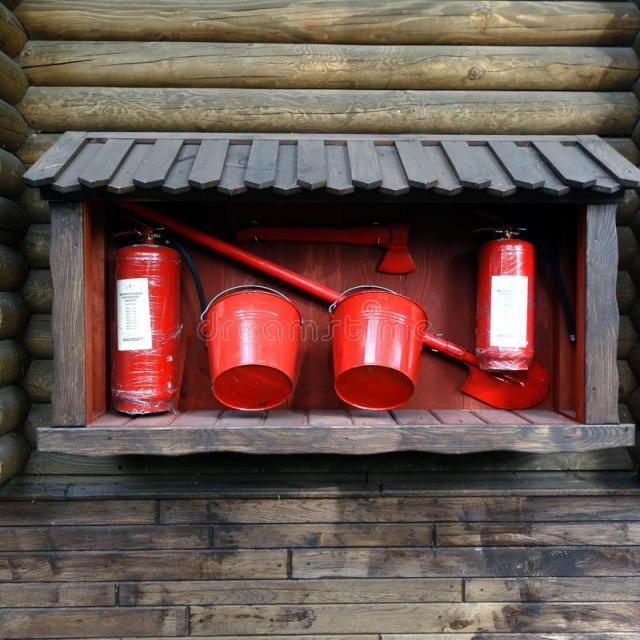FireExtinguisher: (96, 216, 215, 422), (468, 218, 542, 375)
